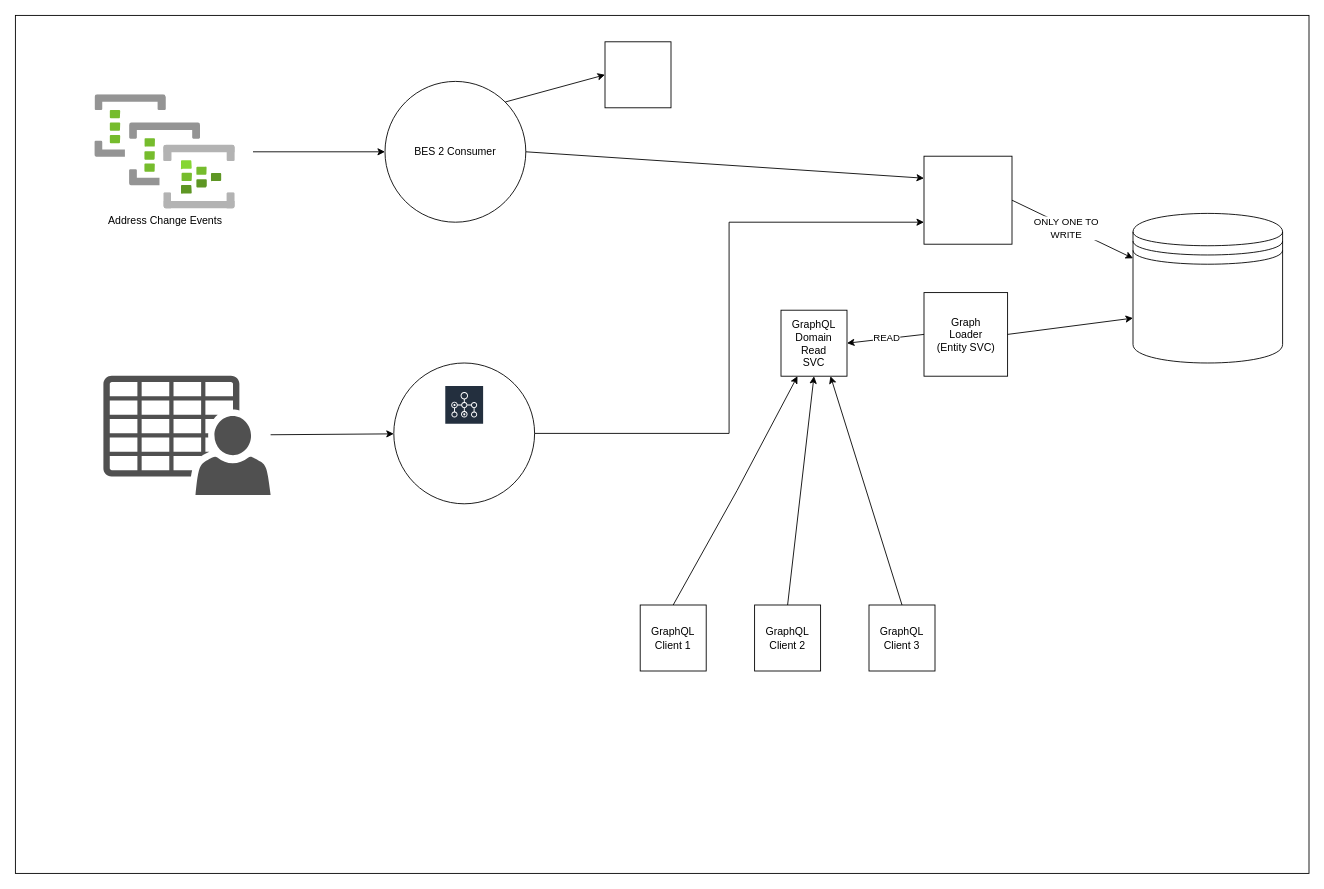
Image size: 1324x889. Some labels were removed from this diagram. Each missing label, with the centre of its shape:
Batch: the point at 464,433
Data Provider SVC 1: the point at 637,74
Nu Graph DB: the point at 1207,288
Validate + Graph Loader (Entity SVC): the point at 967,199
